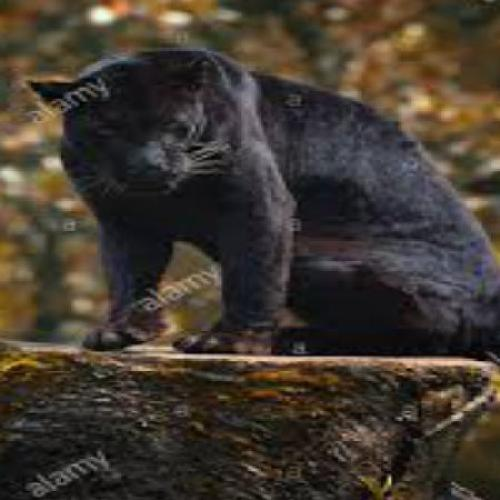panther-endangered: (22, 48, 500, 358)
